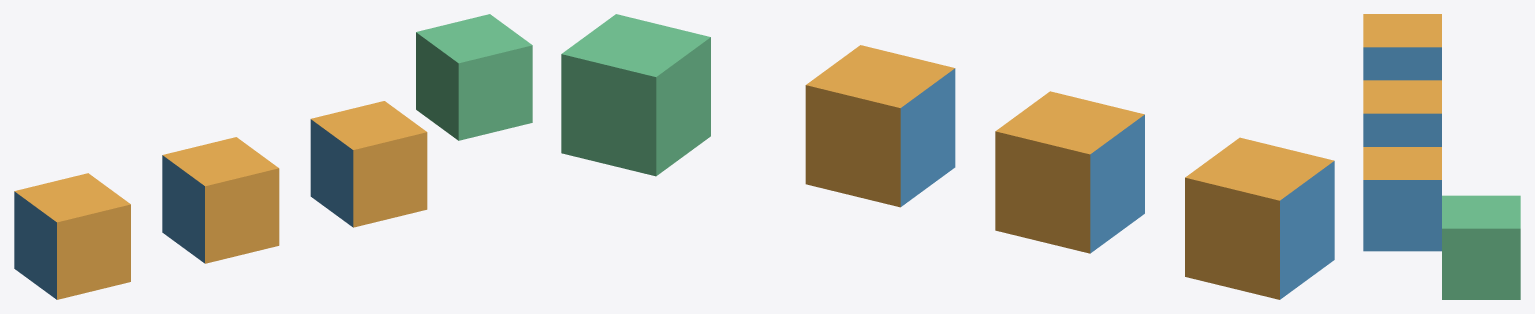
The model's file is synthetic-binary.fbx.
The picture shows the model from 3 angles, left to right: view 1: azimuth 30°, elevation 25°; view 2: azimuth 150°, elevation 25°; view 3: azimuth 270°, elevation 25°; orthographic projection. The views are drawn at different scales.
Visible parts, largest first — view 1: Pump Instance B, Pump Instance A, Buffer Tank, Primary Pump; view 2: Pump Instance B, Buffer Tank, Primary Pump, Pump Instance A; view 3: Buffer Tank, Pump Instance B, Primary Pump, Pump Instance A.
Boxes of the visible parts, left/top/right/bottom form: Pump Instance B: left=310, top=101, right=427, bottom=227; Pump Instance A: left=162, top=137, right=279, bottom=263; Buffer Tank: left=416, top=14, right=532, bottom=140; Primary Pump: left=14, top=173, right=130, bottom=299; Pump Instance B: left=805, top=45, right=955, bottom=207; Buffer Tank: left=561, top=14, right=710, bottom=176; Primary Pump: left=1185, top=137, right=1334, bottom=299; Pump Instance A: left=995, top=91, right=1144, bottom=253; Buffer Tank: left=1442, top=195, right=1520, bottom=299; Pump Instance B: left=1363, top=147, right=1441, bottom=251; Primary Pump: left=1363, top=14, right=1441, bottom=80; Pump Instance A: left=1363, top=80, right=1441, bottom=146.
Bounding box in the file's own units: 700 × 125 × 200.
